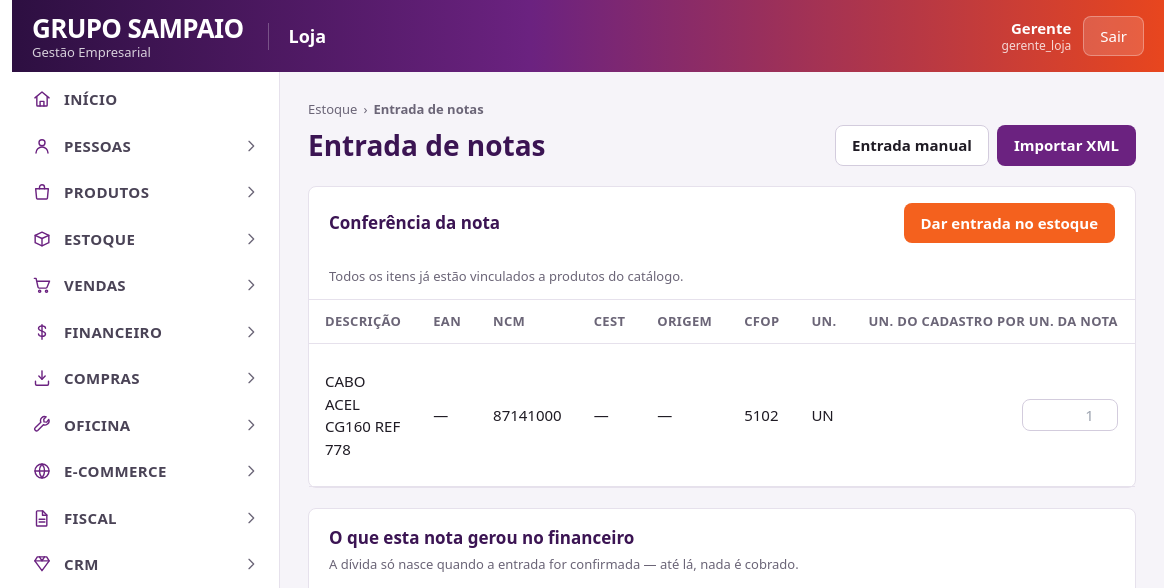
Test: B-07 — imprimir as etiquetas do que a nota pôs no estoque › depois de dar entrada, o link aparece na mesma nota
Check: the heading "Conferência da nota" is shown, box [329,210,500,236]
Check: the link "Imprimir etiquetas desta entrada" is not shown
What coordinates should you click on to do the following:
click the button "Dar entrada no estoque"
I would click on:
 (1009, 223)
Its box is [904,202,1115,243].
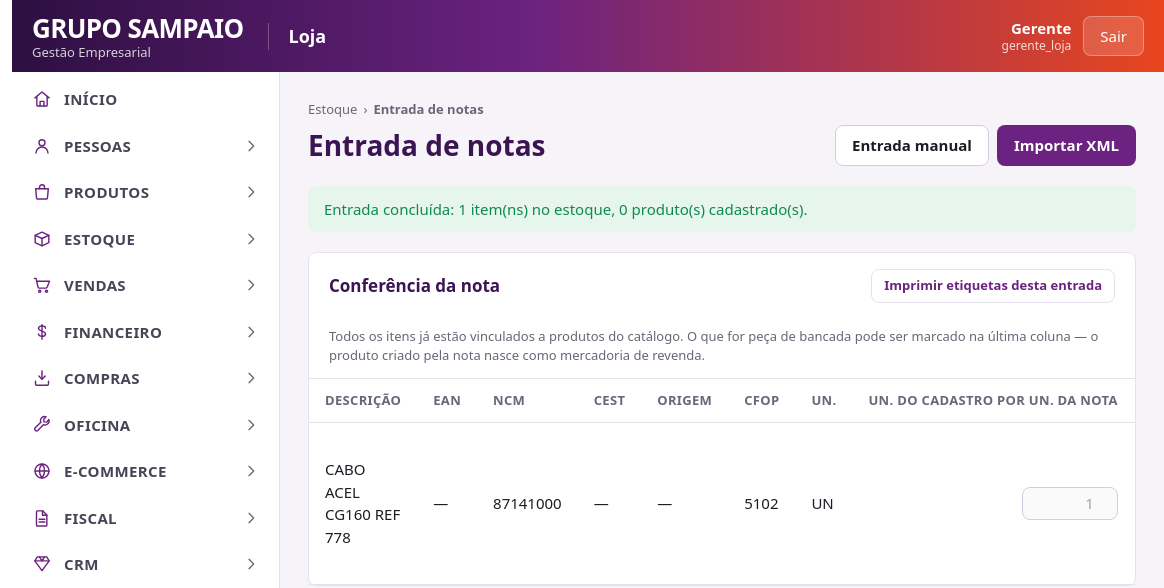
Check: the link "Imprimir etiquetas desta entrada" is shown, box [871,269,1115,302]
